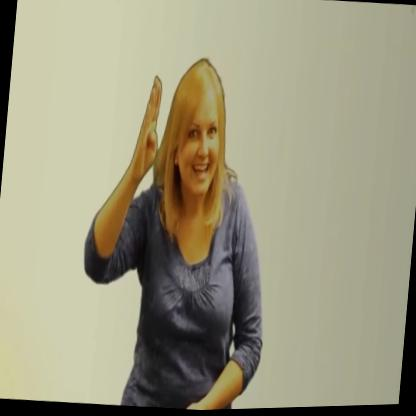Hello: (118, 39, 251, 221)
